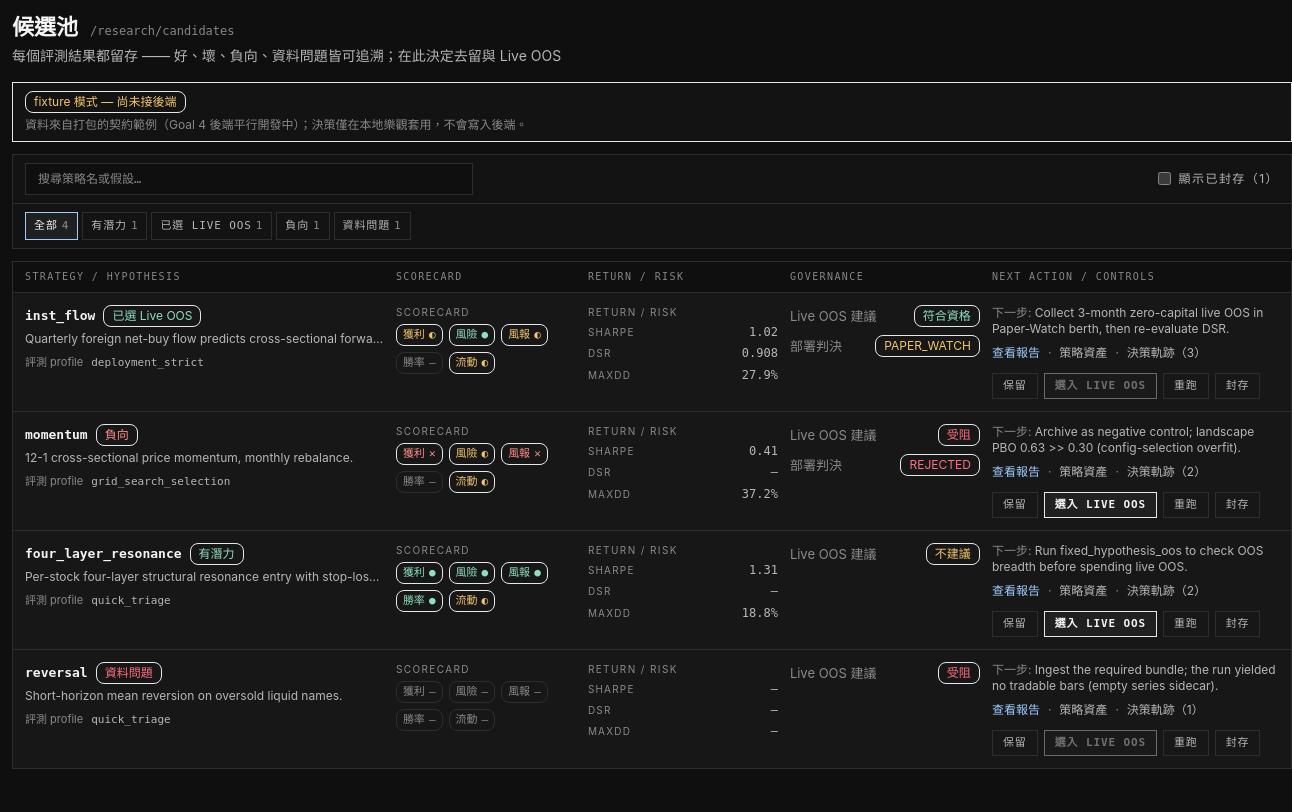
Test: CandidatePoolPage — fixture fallback › text search filters by strategy name
Check: the heading "inst_flow" is shown, box [25, 307, 96, 326]
In the search field: (249, 179) [25, 163, 473, 195], type "momentum"
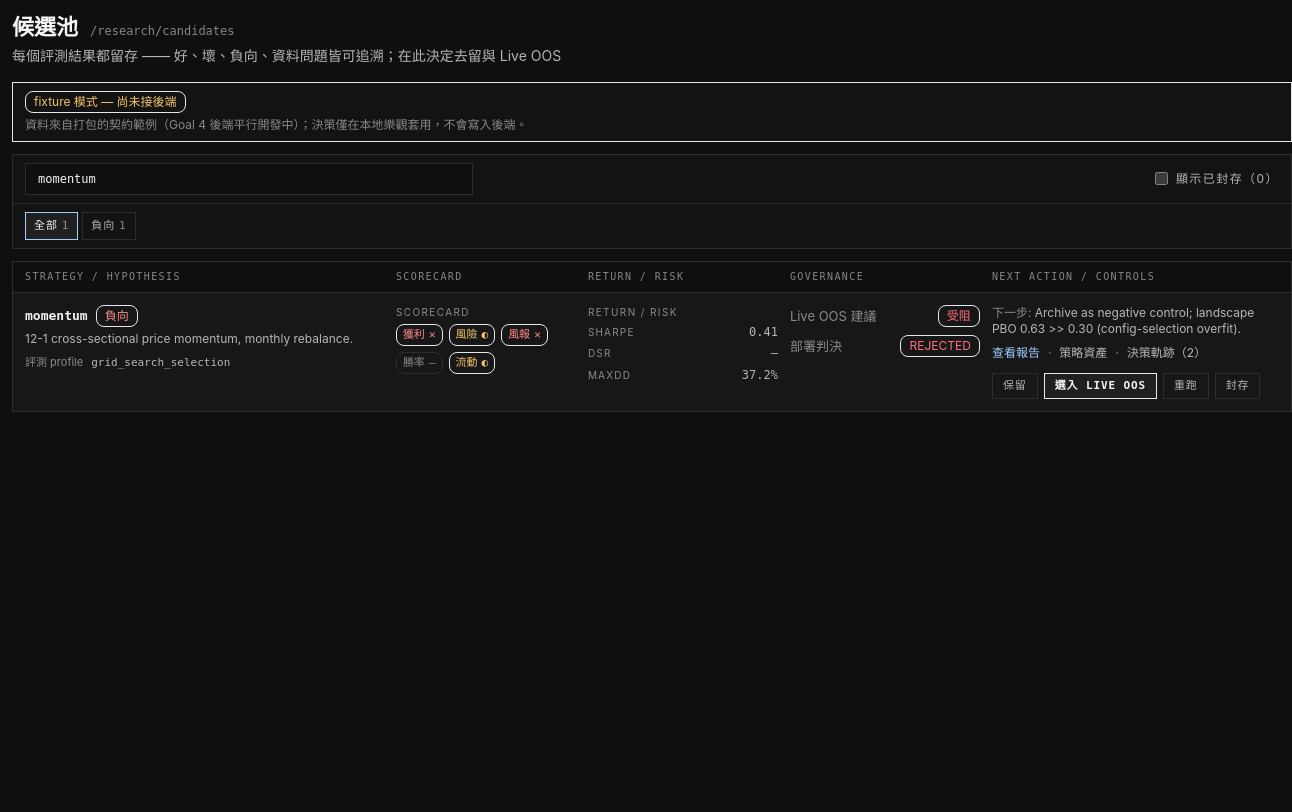
Check: the heading "momentum" is shown, box [25, 307, 88, 326]
Check: the heading "inst_flow" is gone
